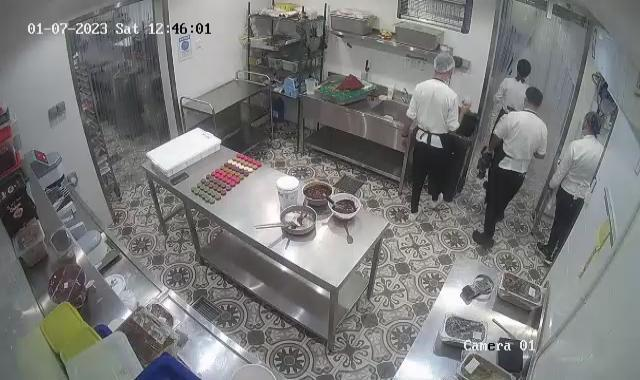hairnet: (432, 53, 456, 78)
no_hairnet: (581, 108, 605, 136), (523, 85, 544, 108), (516, 56, 534, 77)
